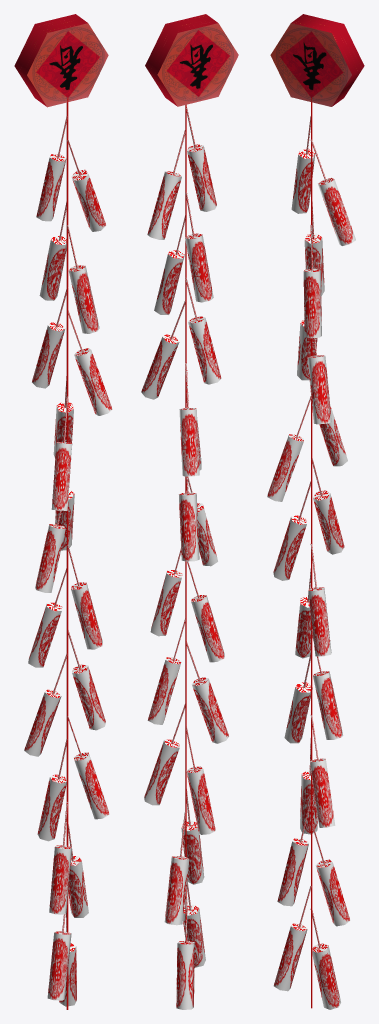
3 views of the same model, side by side, from view 1: azimuth 30°, elevation 25°; view 2: azimuth 210°, elevation 25°; view 3: azimuth 330°, elevation 25° (orthographic).
Visible parts, largest first — view 1: Cylinder001, Cylinder003, Teapot008, Teapot009, Teapot013, Teapot003, Teapot012, Teapot004, Teapot019, Teapot015, Teapot016, Teapot006 (+10 smaller); view 2: Cylinder001, Teapot010, Teapot002, Teapot020, Teapot019, Teapot001, Teapot018, Teapot004, Teapot017, Teapot021, Teapot008, Teapot003 (+9 smaller); view 3: Cylinder001, Cylinder003, Teapot009, Teapot008, Teapot010, Teapot015, Teapot002, Teapot001, Teapot016, Teapot012, Teapot013, Teapot006 (+10 smaller).
Part boxes in pixels (<box>): Cylinder001: <box>14,14,108,107</box>; Cylinder003: <box>66,98,68,1009</box>; Teapot008: <box>68,310,112,415</box>; Teapot009: <box>67,225,99,333</box>; Teapot013: <box>49,802,71,914</box>; Teapot003: <box>37,739,67,841</box>; Teapot012: <box>47,914,71,1000</box>; Teapot004: <box>24,653,67,756</box>; Teapot019: <box>32,289,66,388</box>; Teapot015: <box>68,630,105,730</box>; Teapot016: <box>67,545,102,649</box>; Teapot006: <box>35,510,65,592</box>; Cylinder001: <box>145,14,238,106</box>; Teapot010: <box>147,130,185,239</box>; Teapot002: <box>164,812,189,925</box>; Teapot020: <box>185,192,213,302</box>; Teapot019: <box>185,277,221,384</box>; Teapot001: <box>176,897,194,1009</box>; Teapot018: <box>179,363,199,476</box>; Teapot004: <box>186,641,228,743</box>; Teapot017: <box>178,476,199,561</box>; Teapot021: <box>186,107,216,211</box>; Teapot008: <box>141,300,185,399</box>; Teapot003: <box>186,727,215,834</box>; Cylinder001: <box>270,14,364,106</box>; Cylinder003: <box>311,98,312,1008</box>; Teapot009: <box>303,225,321,338</box>; Teapot008: <box>307,338,331,424</box>; Teapot010: <box>310,139,355,245</box>; Teapot015: <box>311,629,342,739</box>; Teapot002: <box>311,823,350,926</box>; Teapot001: <box>310,908,340,1009</box>; Teapot016: <box>308,544,331,656</box>; Teapot012: <box>273,885,311,991</box>; Teapot013: <box>277,800,311,906</box>; Teapot006: <box>273,481,310,580</box>.
Size of the model in its own units: 20 by 230 by 16.57.
